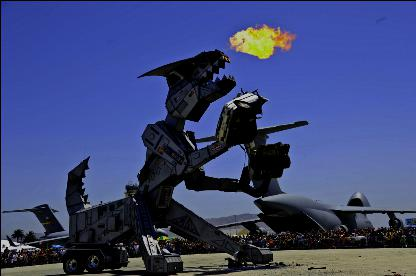C17: (193, 119, 414, 234)
C2: (1, 202, 166, 248)
